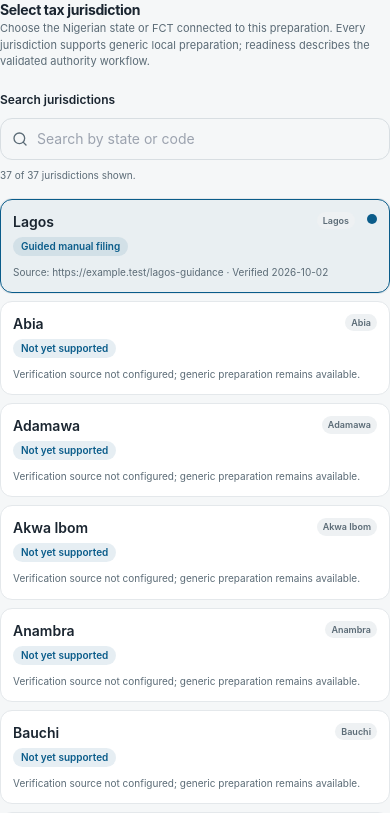
Test: JurisdictionStep › filters jurisdictions by searchable label and mirrors registry readiness evidence
Type "Lagos" into the search field labelled "Search jurisdictions" at (195, 138), box [0,118,389,160]
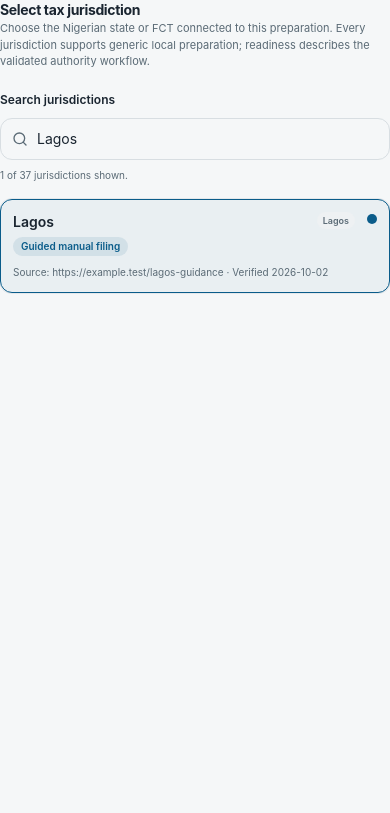
Check: the text "Guided manual filing" is shown, box [13,236,128,256]
Check: the number of buttons is 1, box [0,198,389,293]
